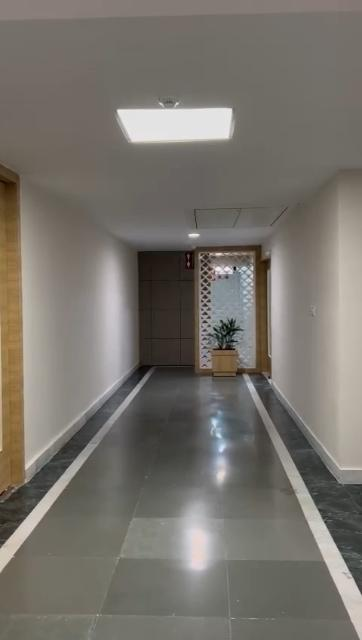door: (0, 162, 22, 488)
floor: (0, 361, 361, 640)
object: (213, 317, 243, 379)
wall: (24, 180, 136, 461), (274, 174, 362, 467)
